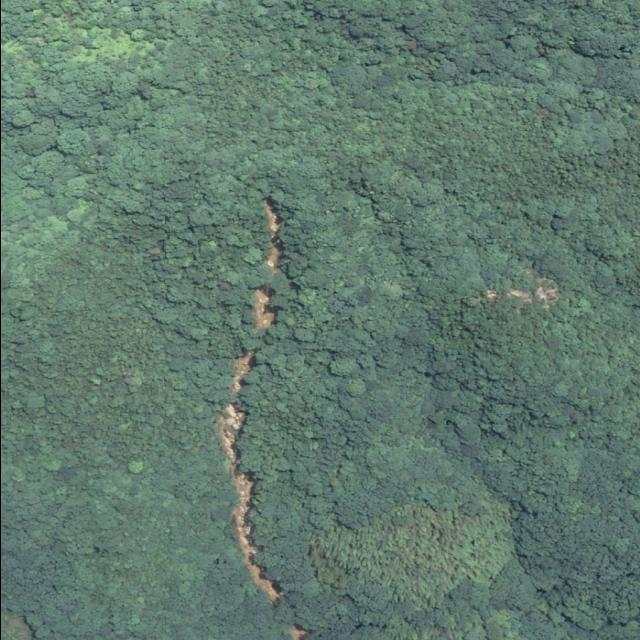landslide: (217, 401, 282, 607), (265, 197, 282, 272), (230, 350, 255, 393), (252, 284, 275, 329)
